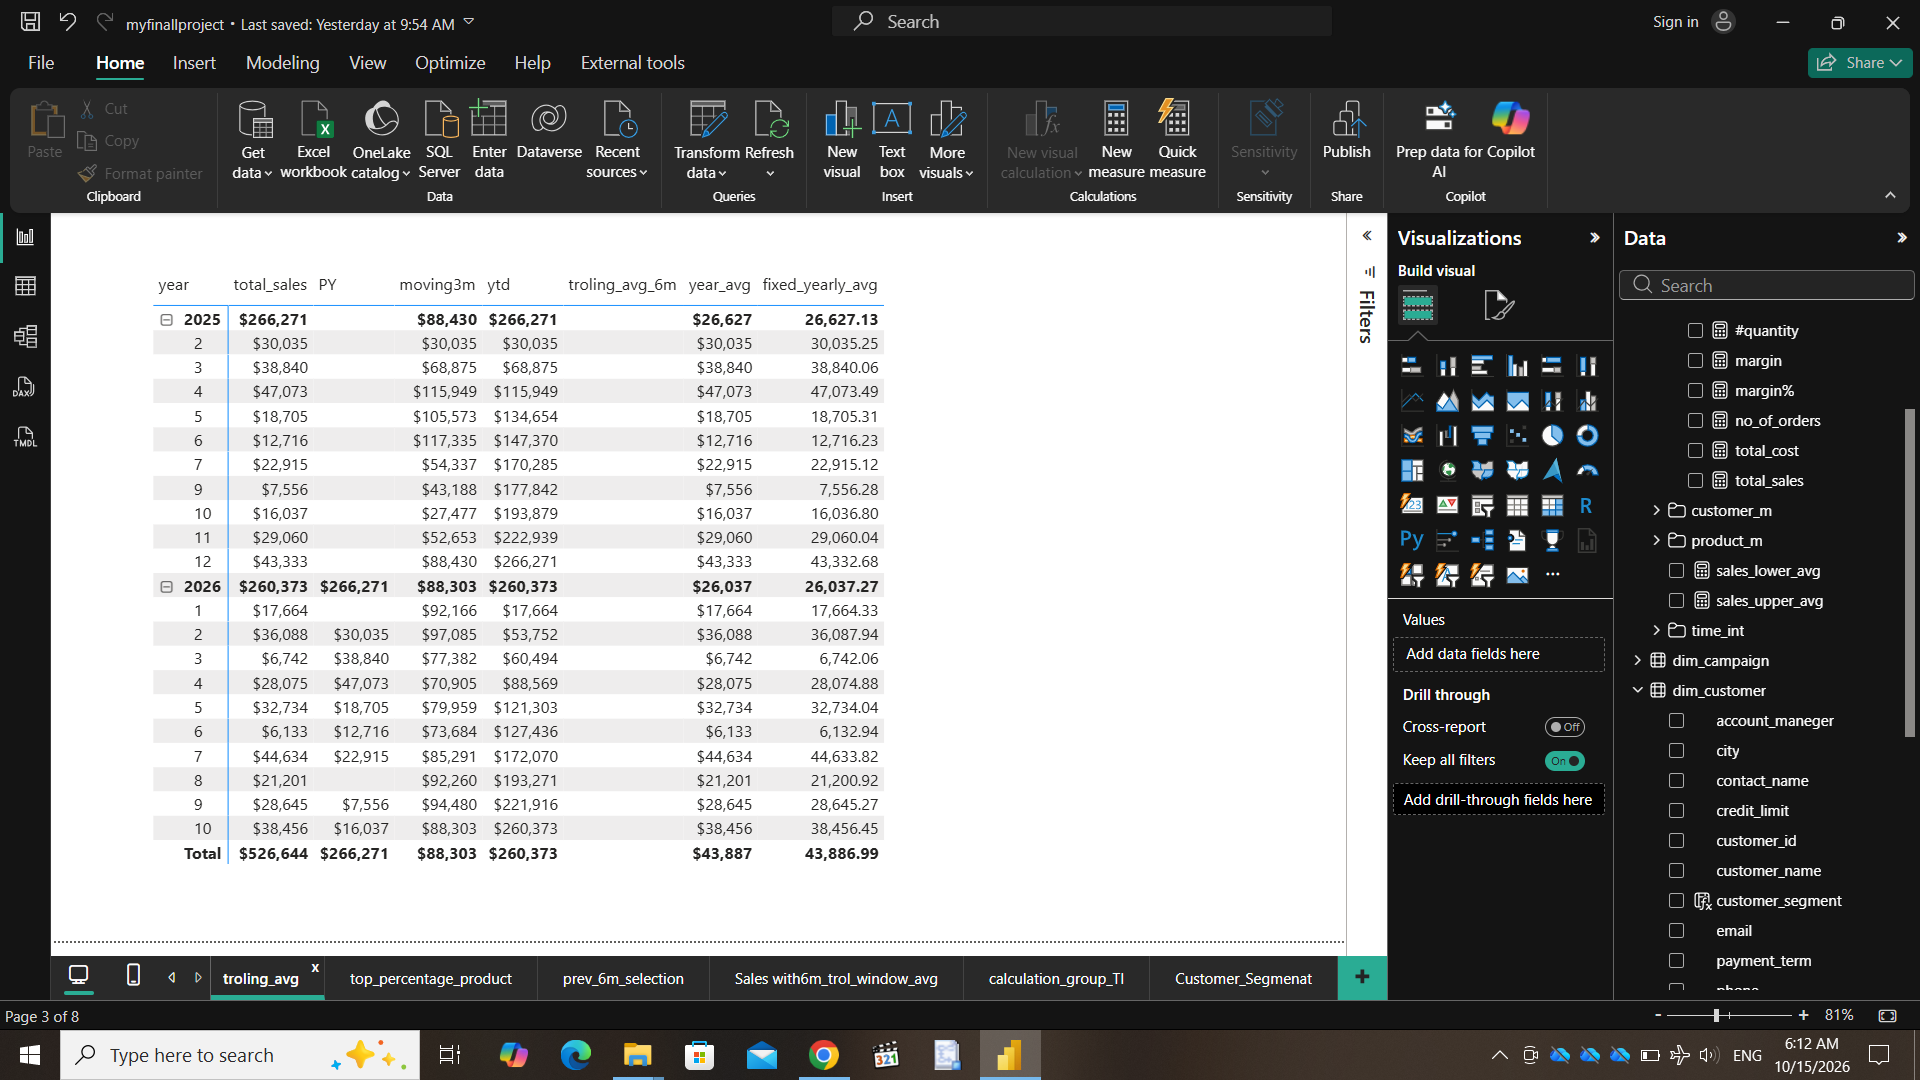

What the dashboard file says about the page in this screenshot:
{"tool":"powerbi","page":{"name":"troling_avg","canvas":[1280,720],"ordinal":3},"visuals":[{"type":"pivotTable","fields":{"Rows":["dim_date.year","dim_date.month"],"Values":["_meassures.total_sales","_meassures.PY","_meassures.MIN","_meassures.ytd","_meassures.test","_meassures.year_avg","_meassures.fixed_yearly_avg"]},"box":[96.1,52.1,827.4,651.8],"z":0}]}

Visuals, with their boxes on the page's 1280x720 design canvas (x1, y1, x2, y2). These are canvas units, not pixel positions in the 1920x1080 screenshot, which may show the page scaled, cropped or inside an application window:
pivotTable - dim_date.year x dim_date.month: pyautogui.locateOnScreen(96, 52, 924, 704)
